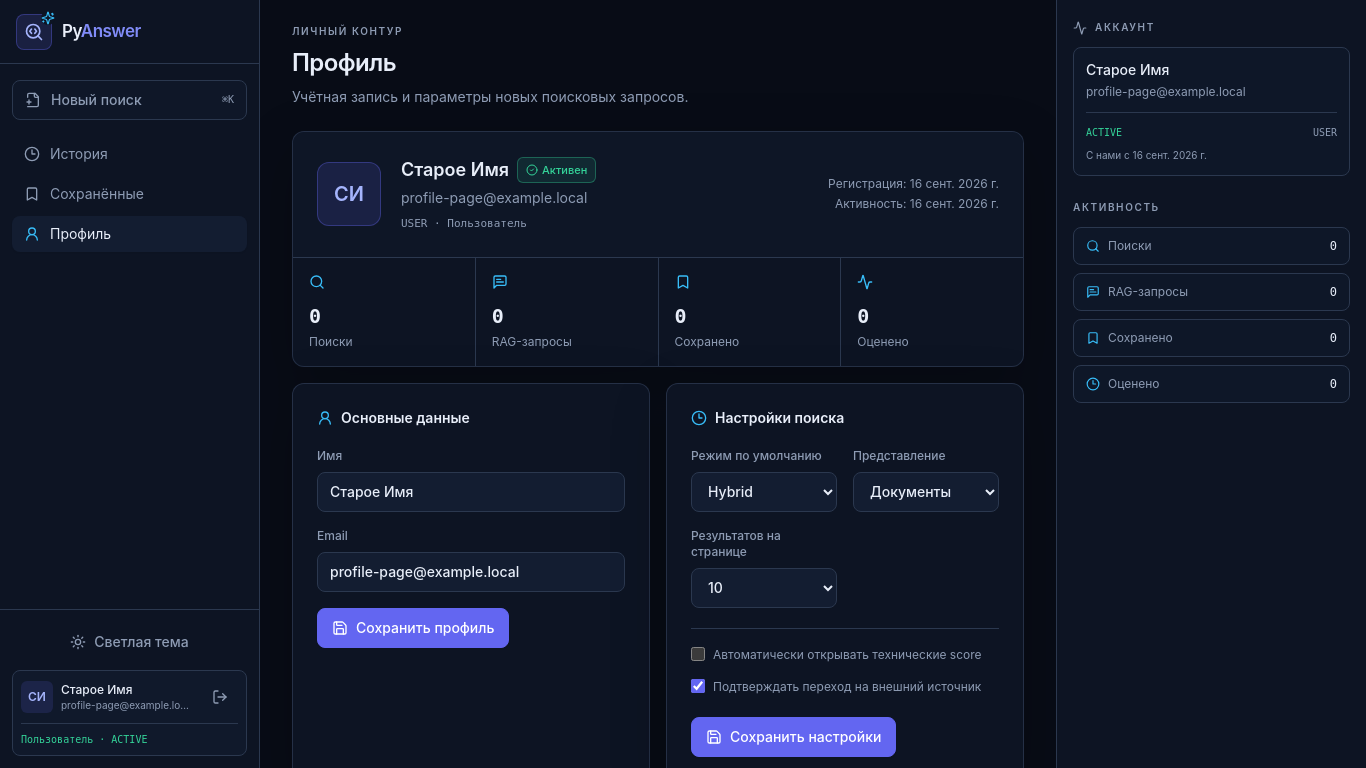
Scenario: ProfilePage › обновляет имя во всём профиле
The width and height of the screenshot is (1366, 768).
Replace the text in the field labelled "Имя" with "Новое Имя" at (471, 492), box [317, 472, 625, 512]
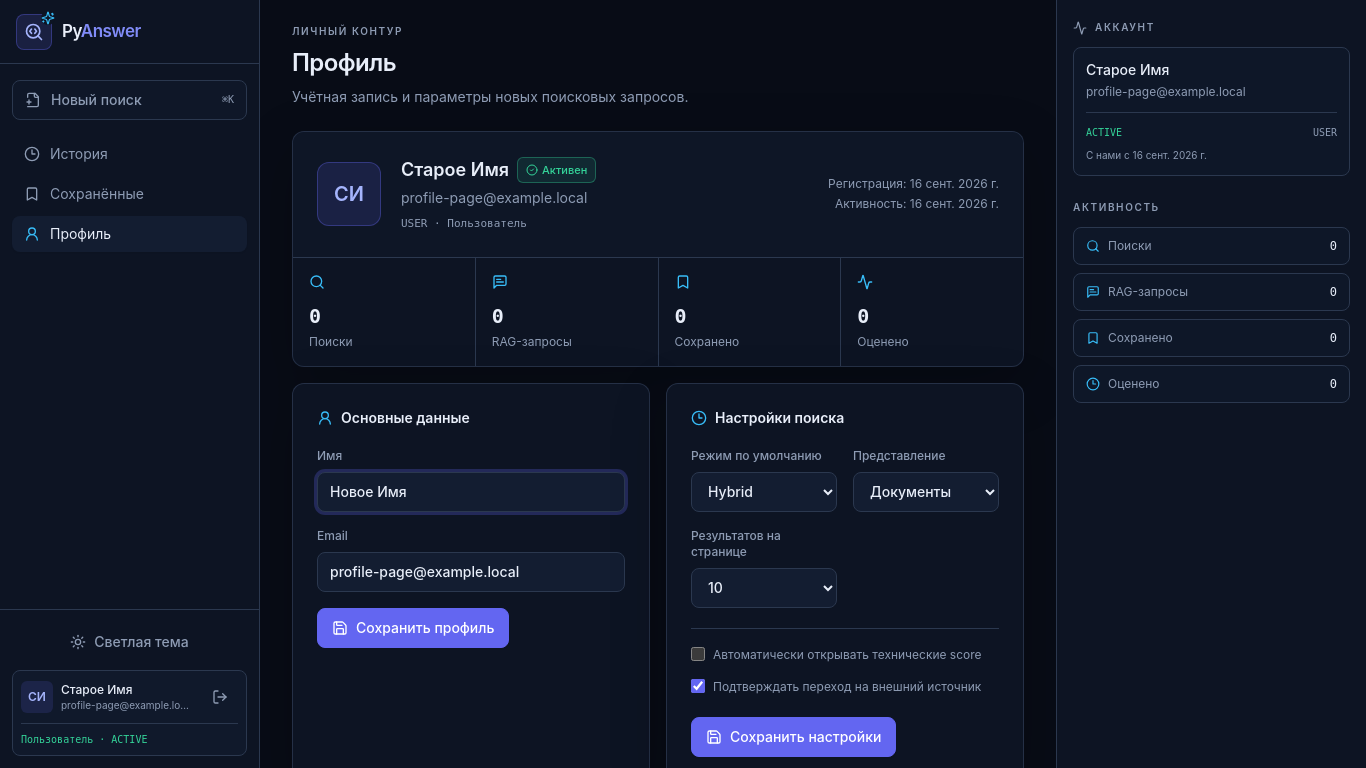
Click the button "Сохранить профиль" at (413, 628), box [317, 608, 510, 648]
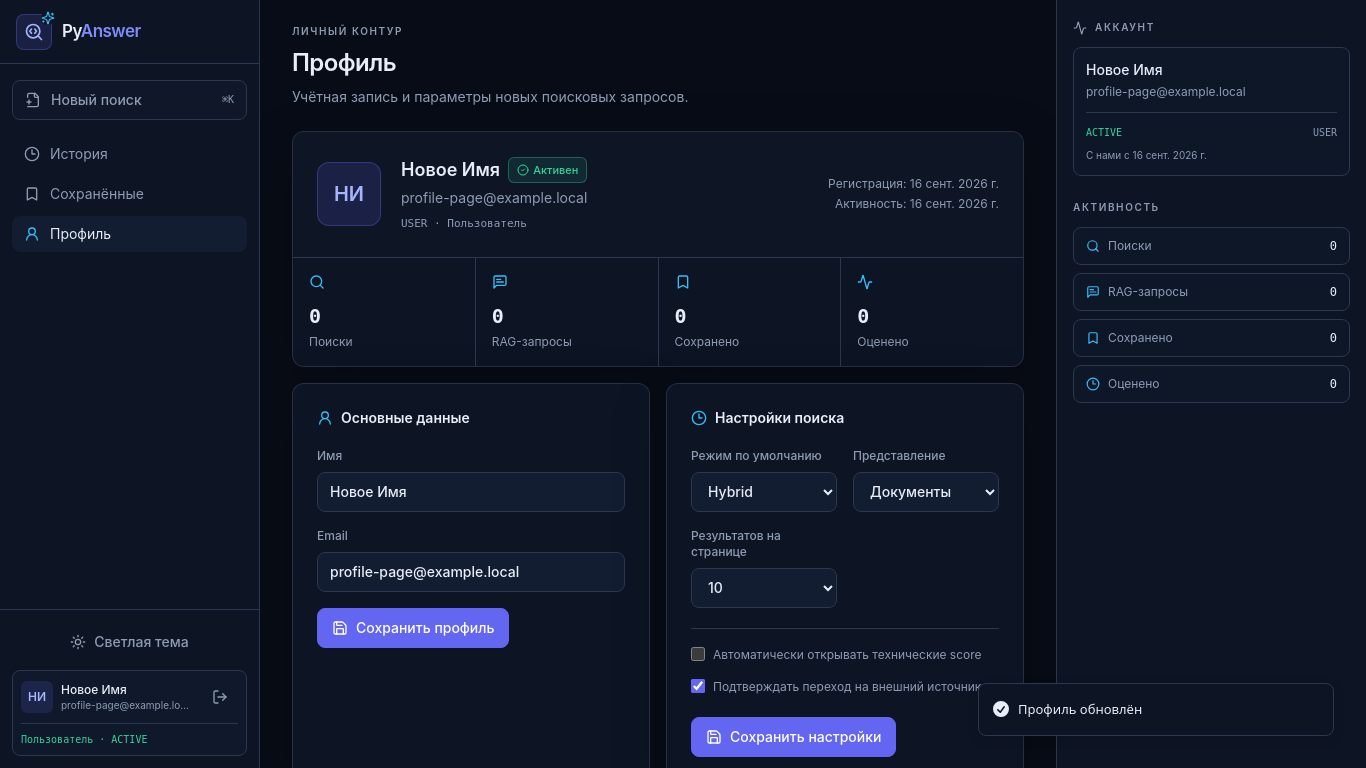
Now the heading "Новое Имя" is shown, box [401, 156, 500, 184]
Now the 2nd text "Новое Имя" is shown, box [61, 682, 127, 696]
